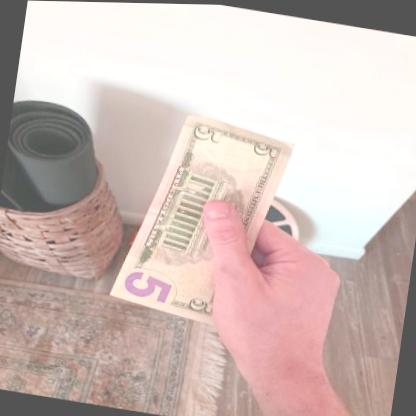dollar_back: (106, 103, 298, 335)
